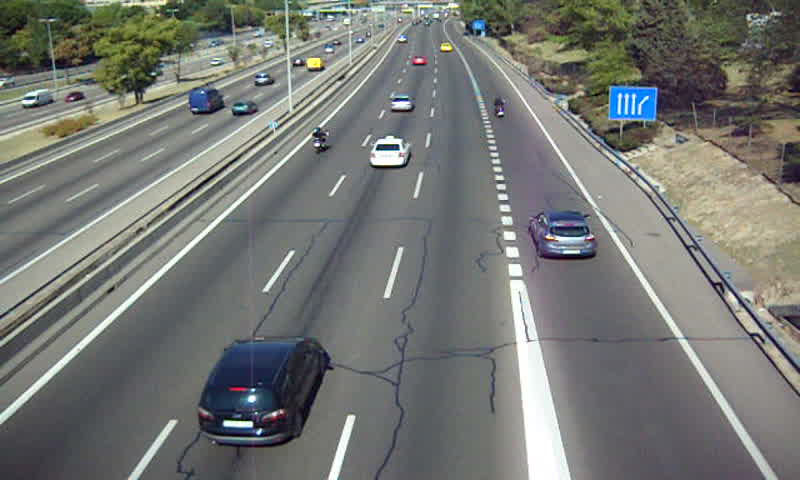car: (198, 338, 322, 447), (531, 210, 598, 257), (372, 138, 409, 166), (388, 94, 413, 112), (411, 54, 429, 67)
motorcycle: (310, 126, 329, 156), (493, 98, 507, 119)
